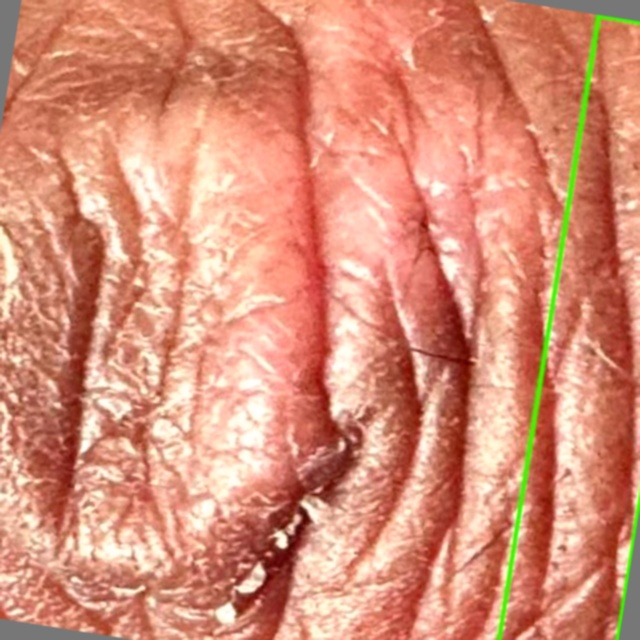Contact Dermatitis: (499, 15, 639, 639)
